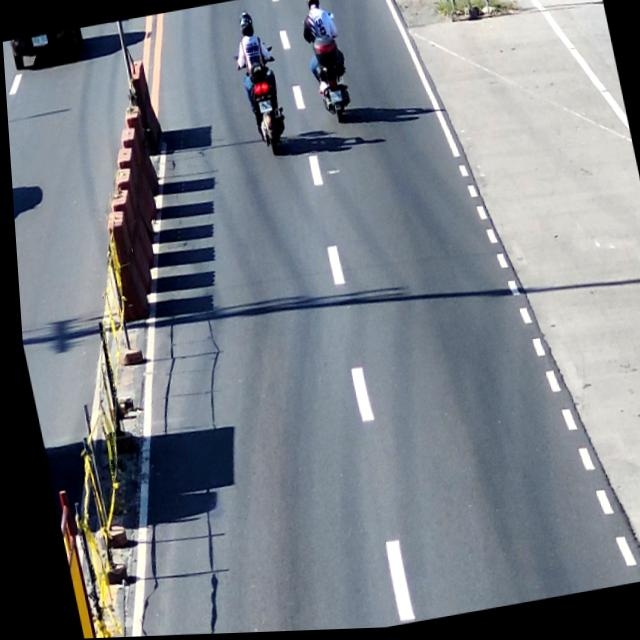Car: (6, 28, 89, 70)
License-Plate: (28, 34, 52, 51), (254, 98, 273, 117), (326, 88, 345, 107)
Motorcycle: (229, 36, 297, 166), (300, 16, 360, 131)
